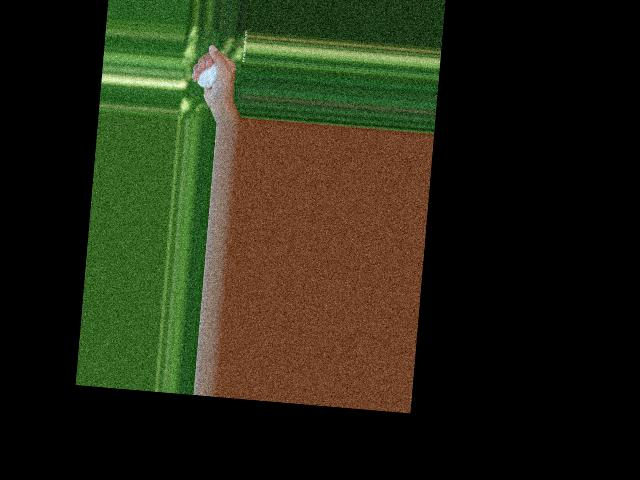egg: (196, 61, 218, 88)
